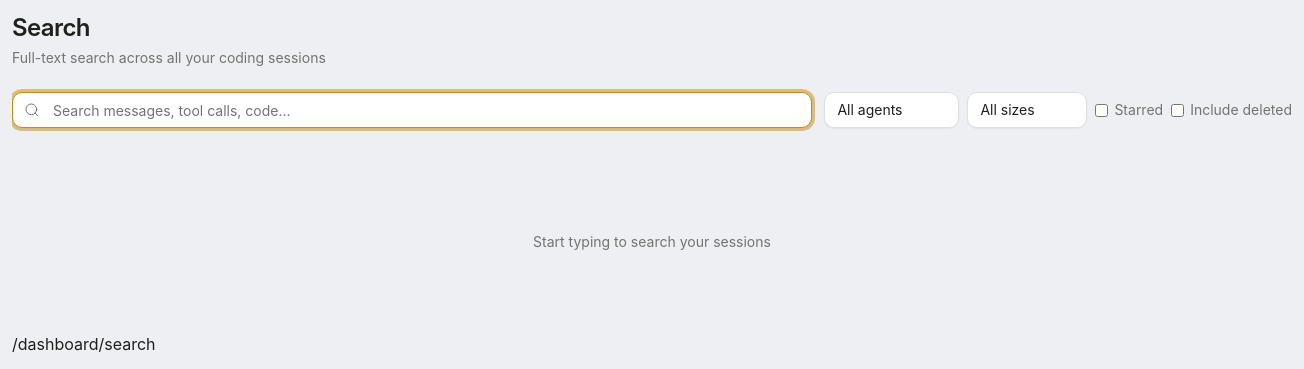
Test: SearchPage › renders error on HTTP failure
Type "z" into the search field with test id "search-input" at (412, 110), box x1=12 y1=92 x2=812 y2=128
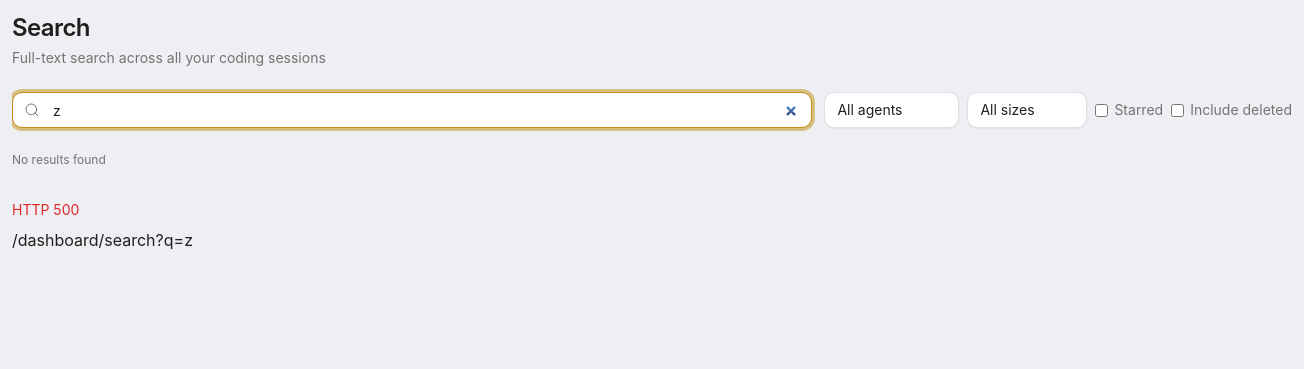
Check: the text "HTTP 500" is shown, box x1=12 y1=201 x2=79 y2=218
